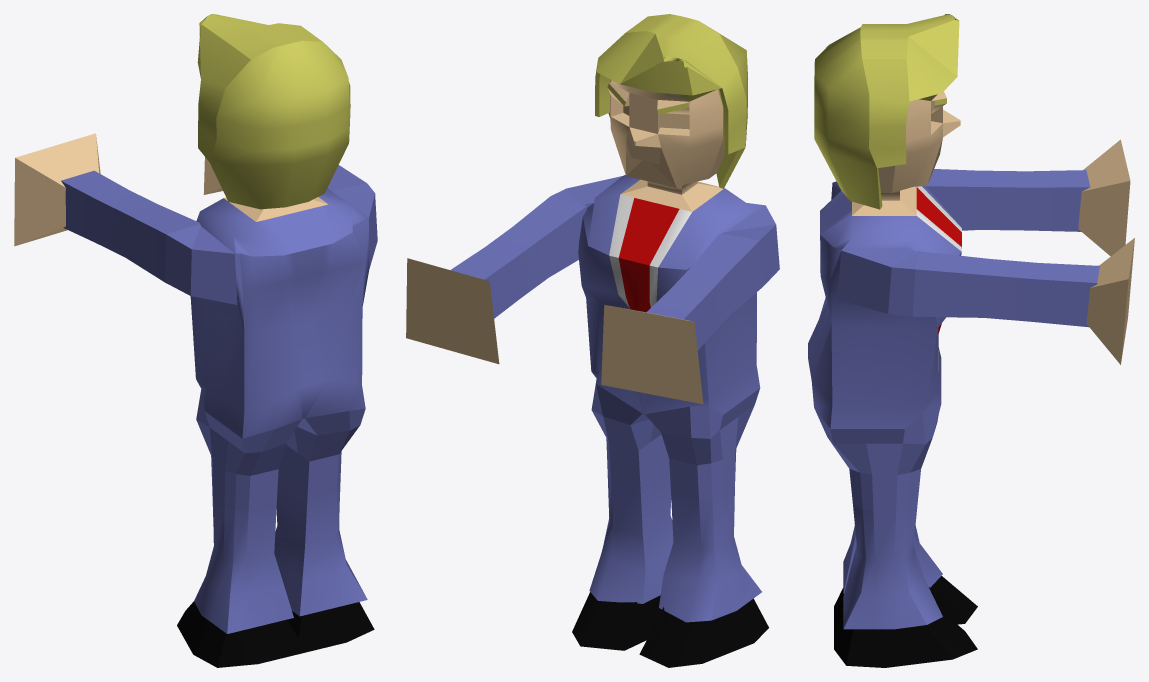
File: Blue Trump.fbx
3 views of the same model, side by side, from view 1: azimuth 30°, elevation 25°; view 2: azimuth 150°, elevation 25°; view 3: azimuth 270°, elevation 25° (orthographic).
Visible parts, largest first — view 1: pCube1; view 2: pCube1; view 3: pCube1.
Boxes of the visible parts, <box> form: pCube1: <box>14,14,377,667</box>; pCube1: <box>406,14,779,667</box>; pCube1: <box>808,14,1134,667</box>.
Size of the model in its own units: 7.05 by 13.78 by 6.85.
